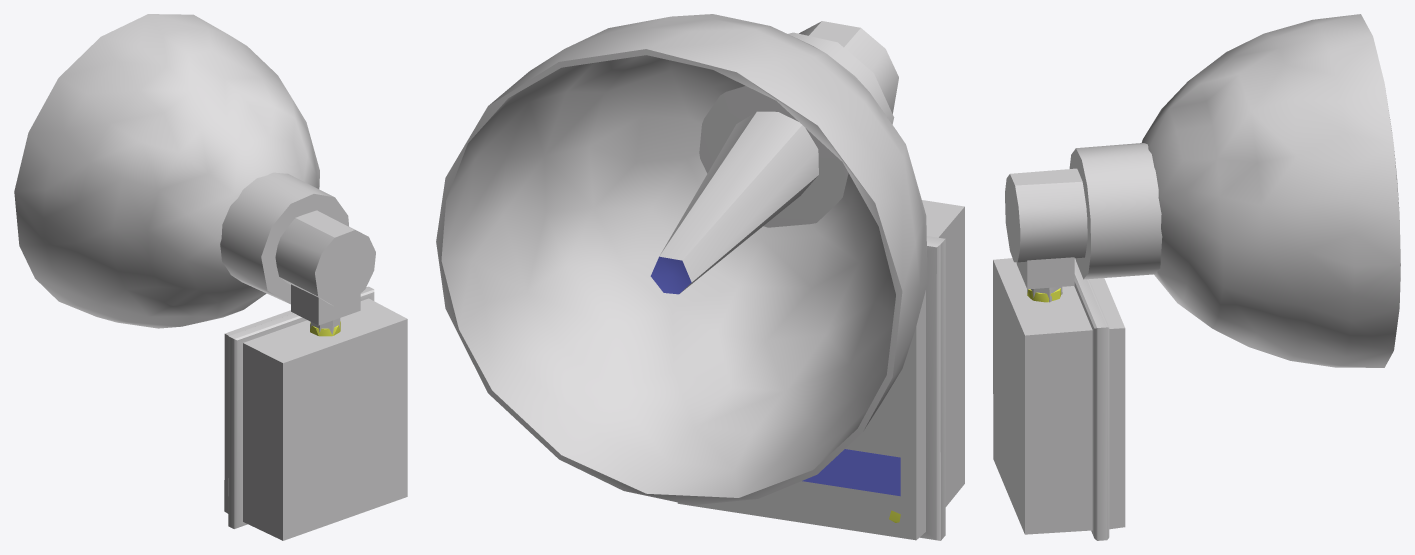
The model's file is PA-Horn.fbx.
3 views of the same model, side by side, from view 1: azimuth 30°, elevation 25°; view 2: azimuth 150°, elevation 25°; view 3: azimuth 270°, elevation 25° (orthographic). The views are drawn at different scales.
Visible parts, largest first — view 1: Box005; view 2: Box005; view 3: Box005.
Part boxes in pixels (x1,y1,x2,y2): Box005: (14, 14, 407, 540); Box005: (436, 14, 964, 540); Box005: (993, 14, 1400, 540).
Bounding box in the file's own units: 56.69 × 78.94 × 65.03.
